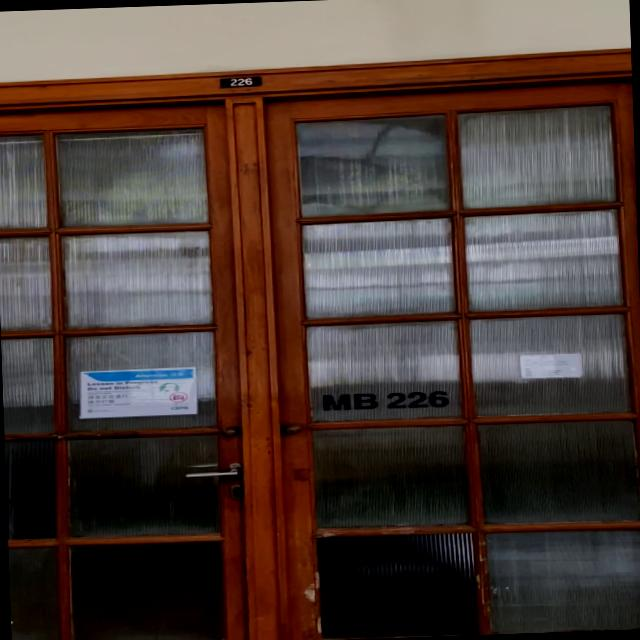room226: (216, 74, 266, 90)
room226Window: (316, 385, 456, 415)
